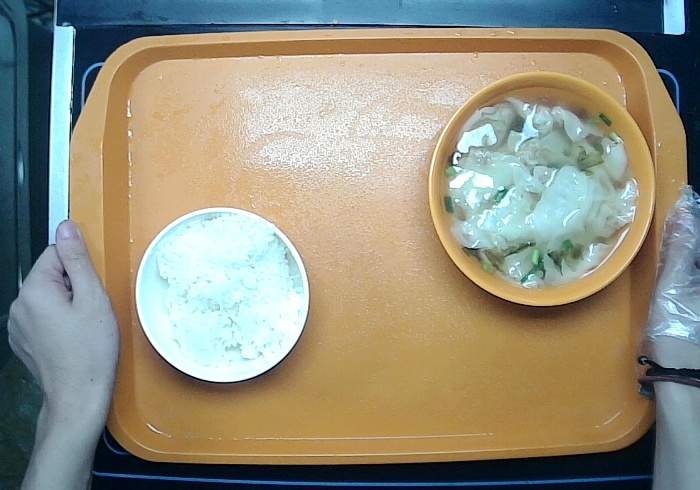NLDX-Fan_Wan: (134, 204, 313, 386)
NLDX-Hun_Tun_Wan: (426, 69, 657, 306)
